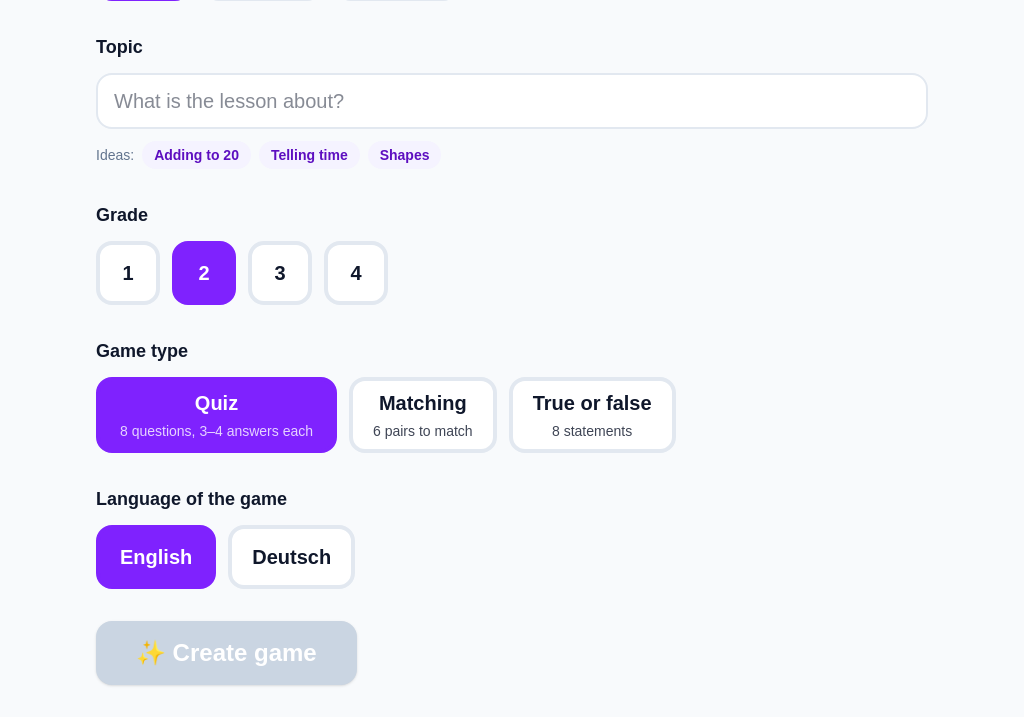
Test: CreateFlow › fills the topic from an idea chip in the game's language
(page scrolled)
Step 1. Click the radio button labelled "Deutsch" → x=292, y=557, box [228,525,355,589]
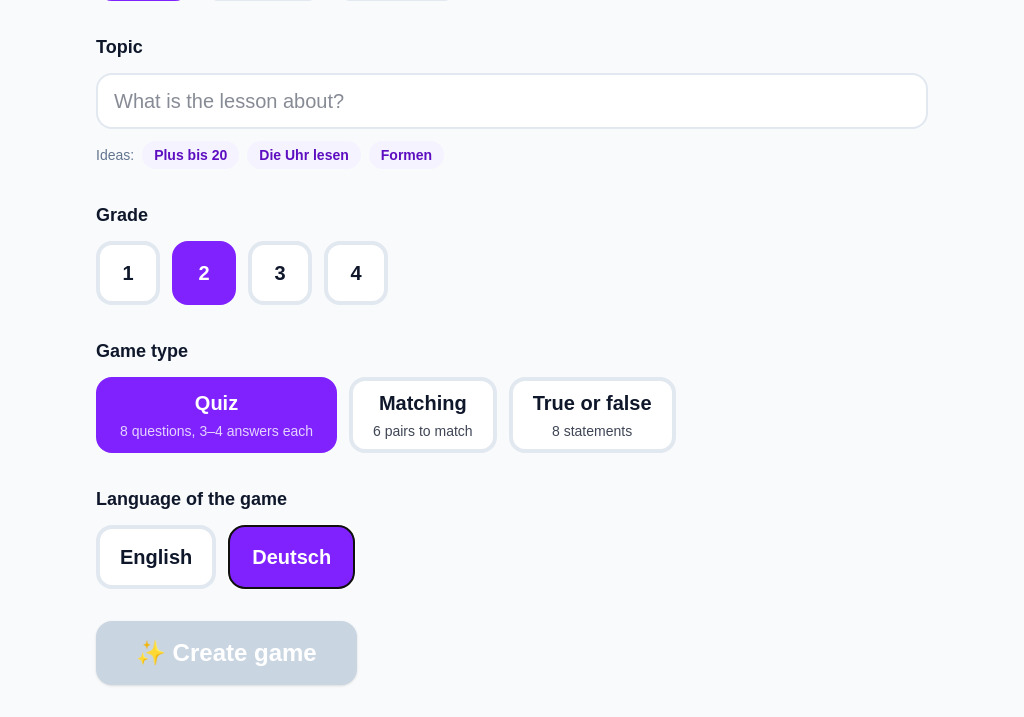
Step 2. Click the button "Die Uhr lesen" → x=304, y=155, box [247,141,361,169]
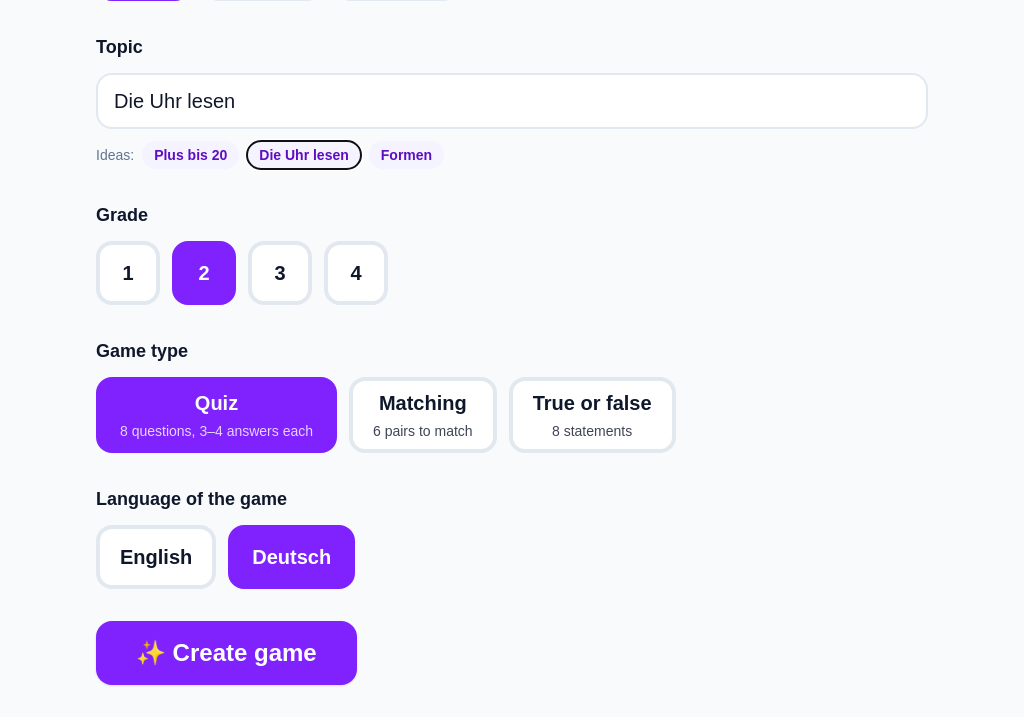
Expected: the field labelled "Topic" holds "Die Uhr lesen", [96,73,928,129]
